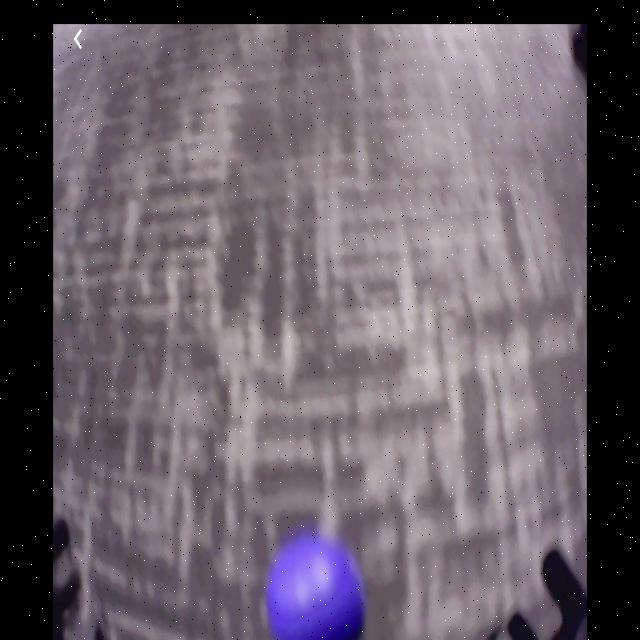ball: (270, 540, 360, 640)
